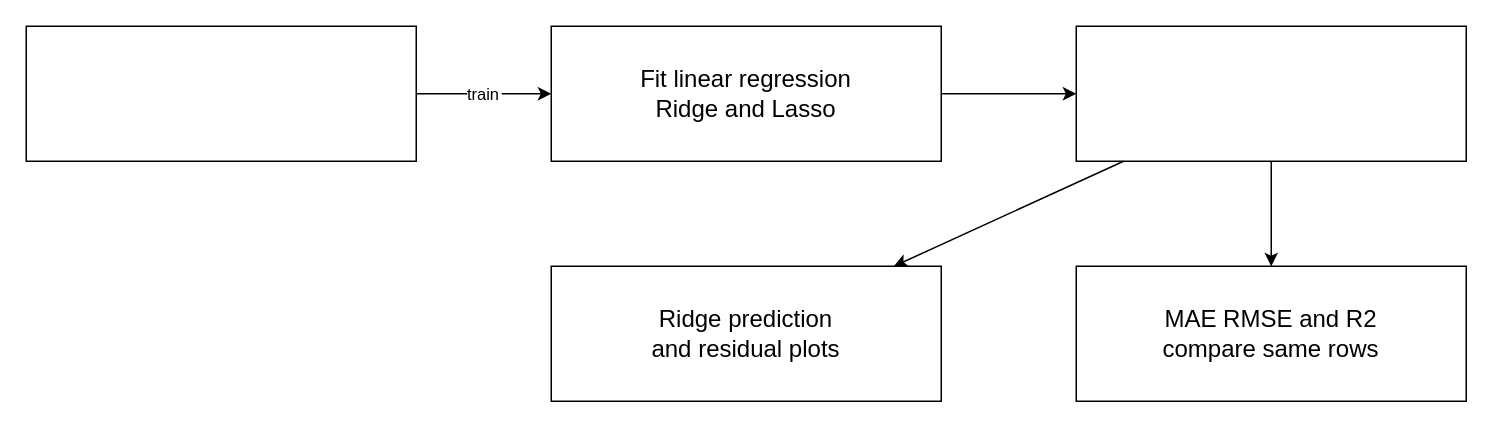
The diagram is 1493 pixels wide and 428 high, and some of its shapes have lost their labels. Each missing label, with the centre of its shape:
"Housing X and Price 80:20 split" goes at point 220,93.
"Predict test rows no refit on test" goes at point 1270,93.
